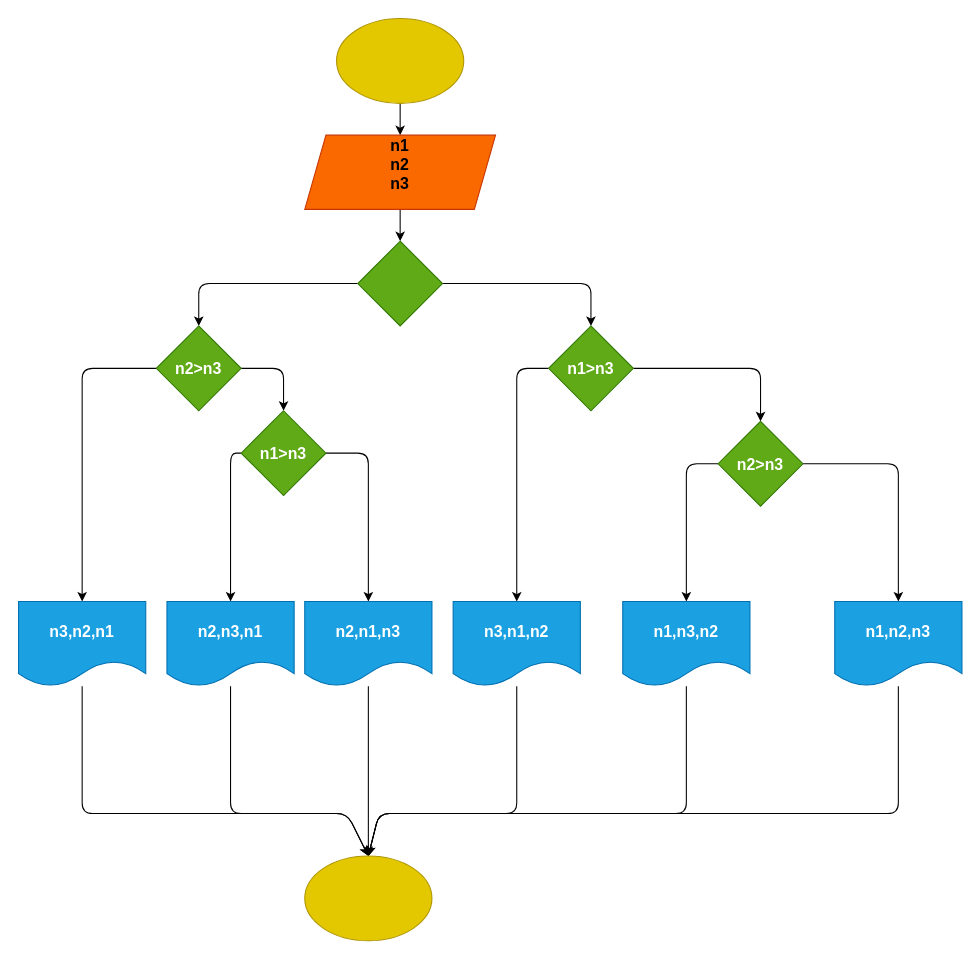
The diagram is 980 pixels wide and 959 high, and some of its shapes have lost their labels. Here are the shapes that lost their labels. From the top down, the centre of each, then its label:
(399,60): INICIO
(400,283): n1>n2
(368,898): FIN
